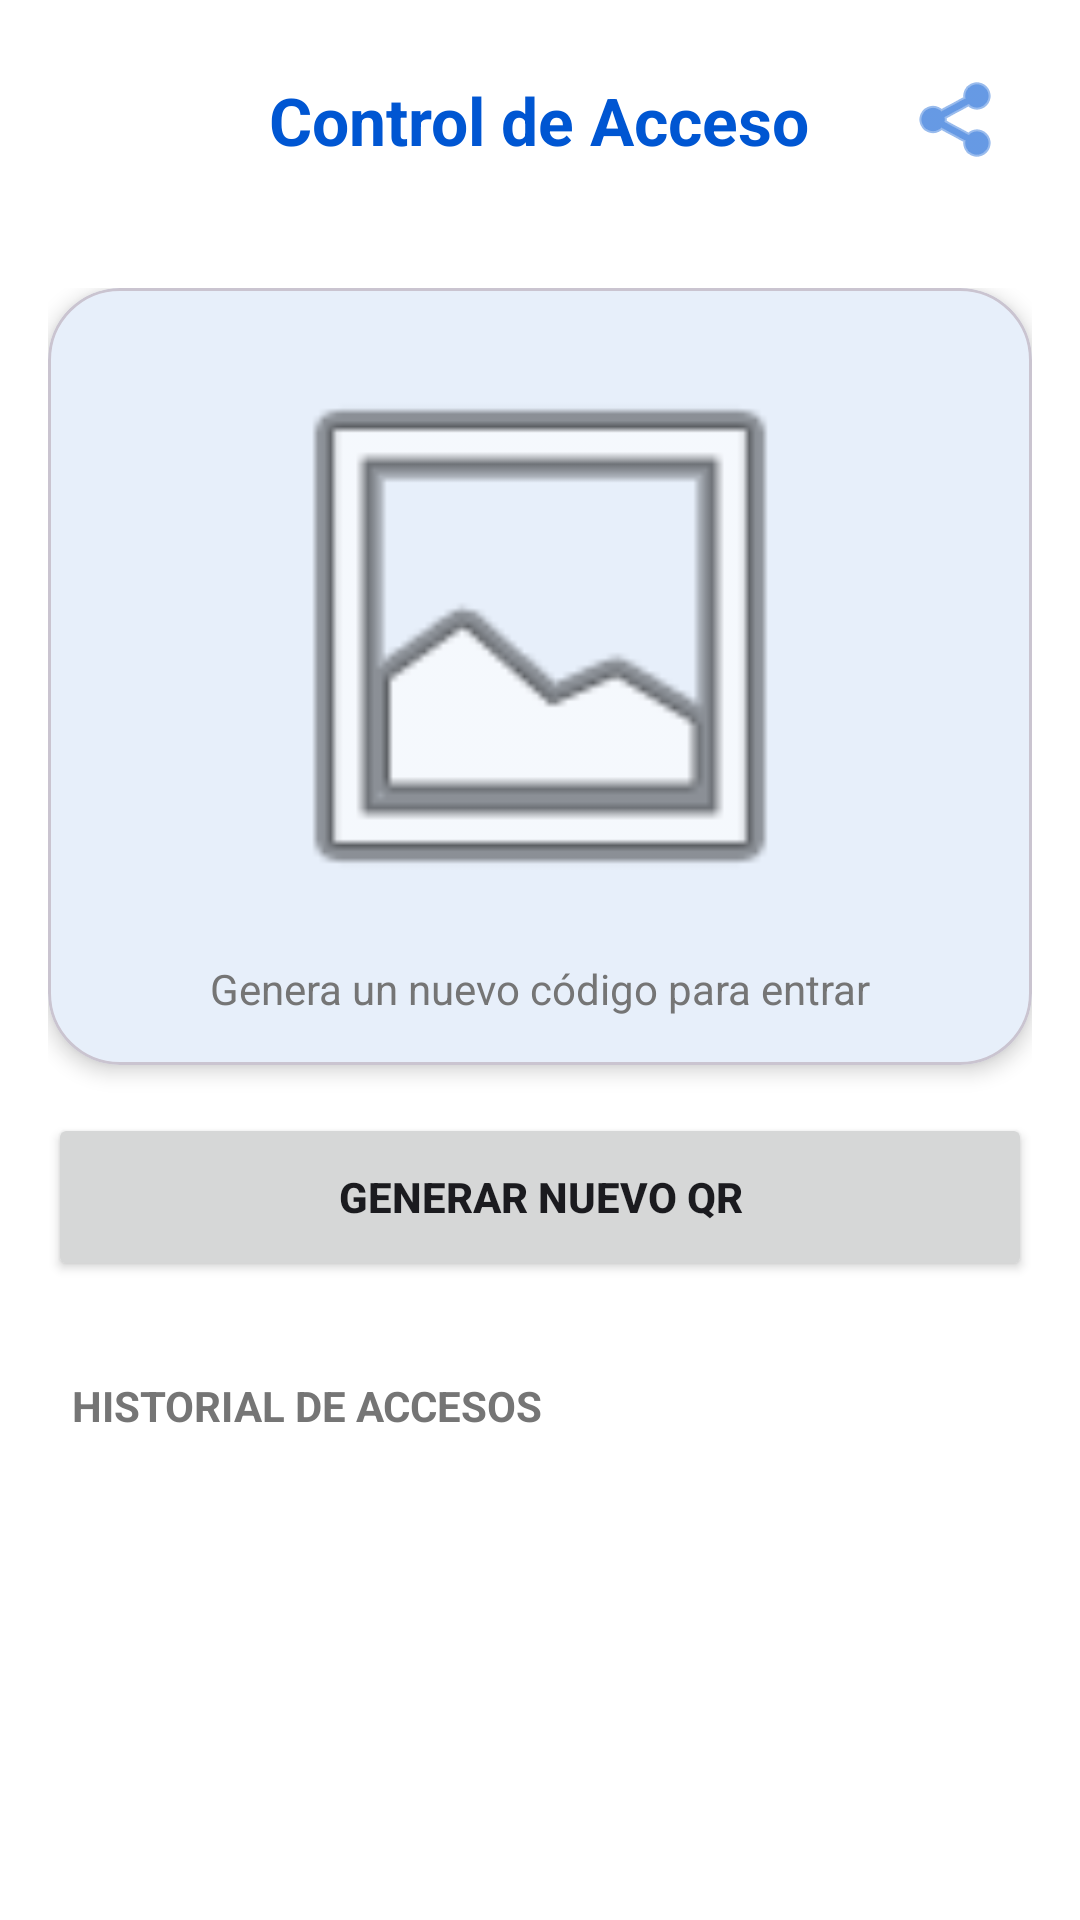

Screen size 1080 x 1920. Icon name, then its center in pixels as [x,y]:
share: [955,119]
